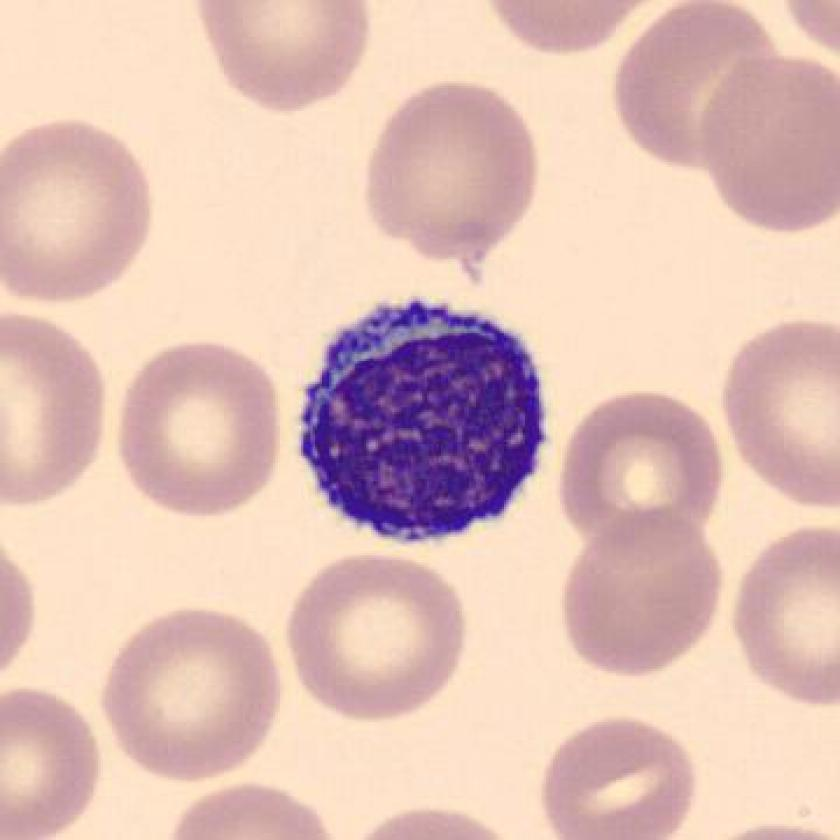lymphocyte: (283, 283, 568, 561)
